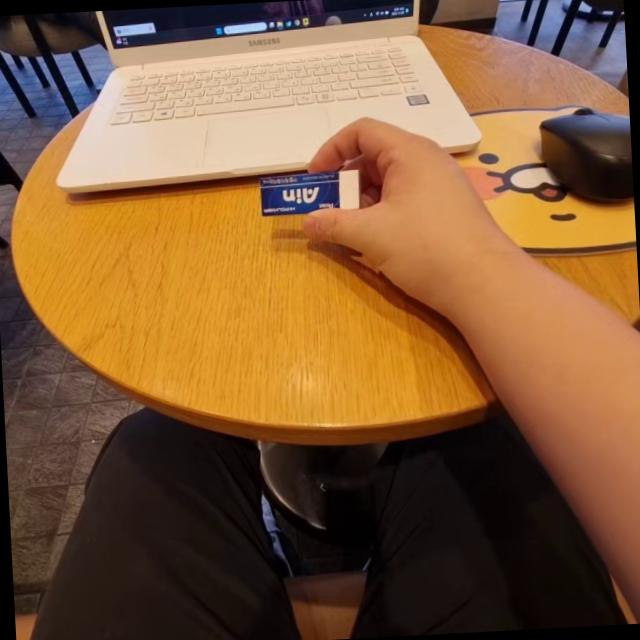eraser: (240, 150, 372, 227)
grab_eraser: (242, 102, 510, 336)
hand: (336, 110, 475, 282)
mouse: (526, 90, 634, 212)
